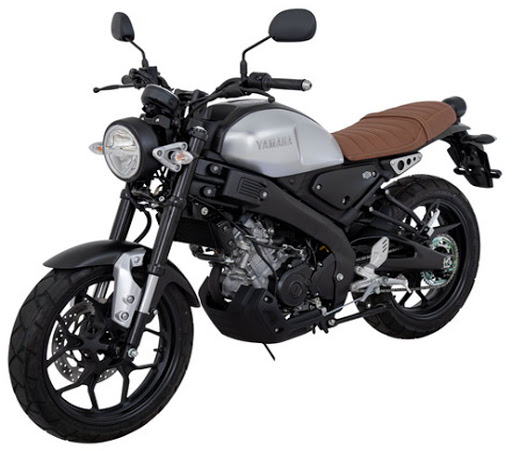motorcycle: (6, 2, 510, 447)
